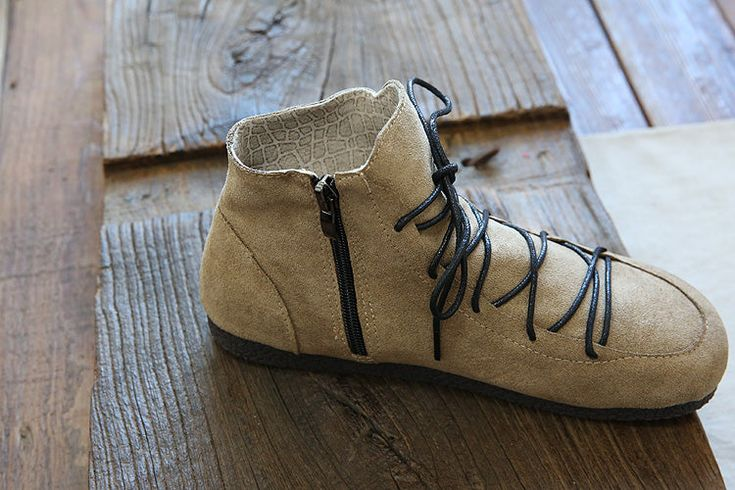gamuza: (201, 80, 728, 409)
